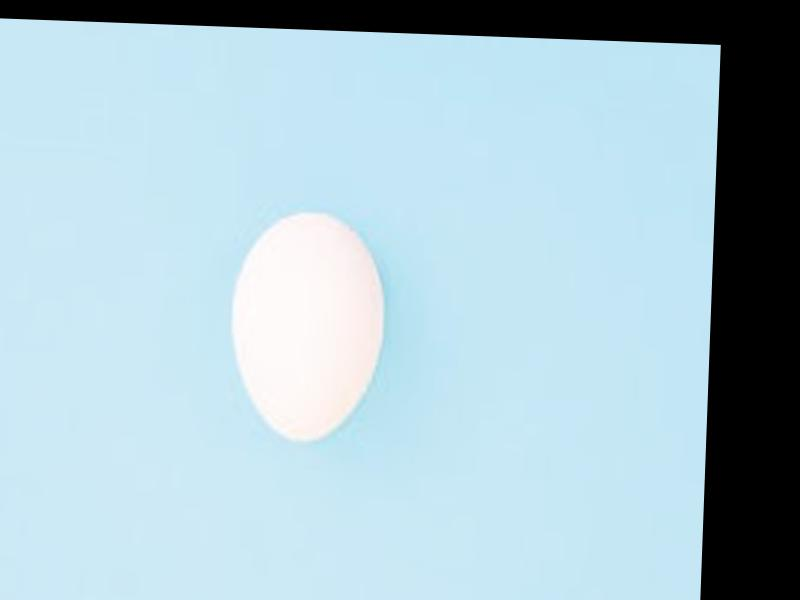Eggs: (229, 210, 389, 448)
